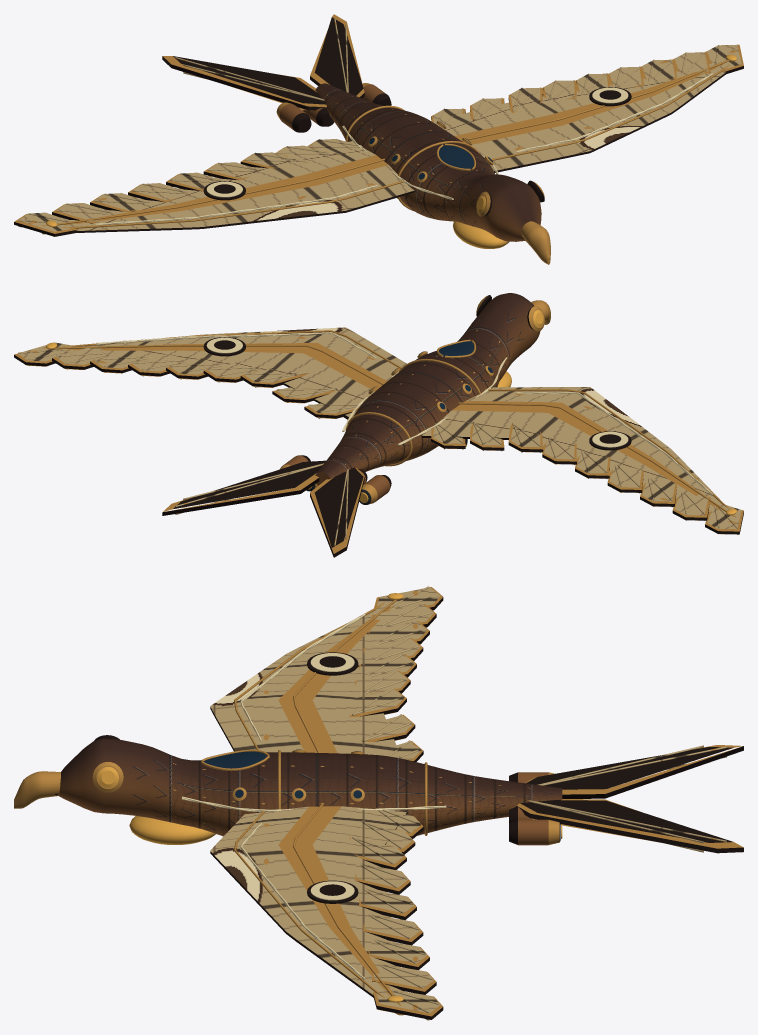
The picture shows the model from 3 angles, top to bottom: view 1: azimuth 30°, elevation 25°; view 2: azimuth 150°, elevation 25°; view 3: azimuth 270°, elevation 25°; orthographic projection. The views are drawn at different scales.
Visible parts, largest first — view 1: frigatebird_hull; view 2: frigatebird_hull; view 3: frigatebird_hull.
Boxes of the visible parts, x1=… form: frigatebird_hull: x1=14, y1=14, x2=743, y2=264; frigatebird_hull: x1=14, y1=293, x2=743, y2=557; frigatebird_hull: x1=14, y1=586, x2=743, y2=1020.
Size of the model in its own units: 88 by 9.48 by 63.18.
1 material, 1 textured.
